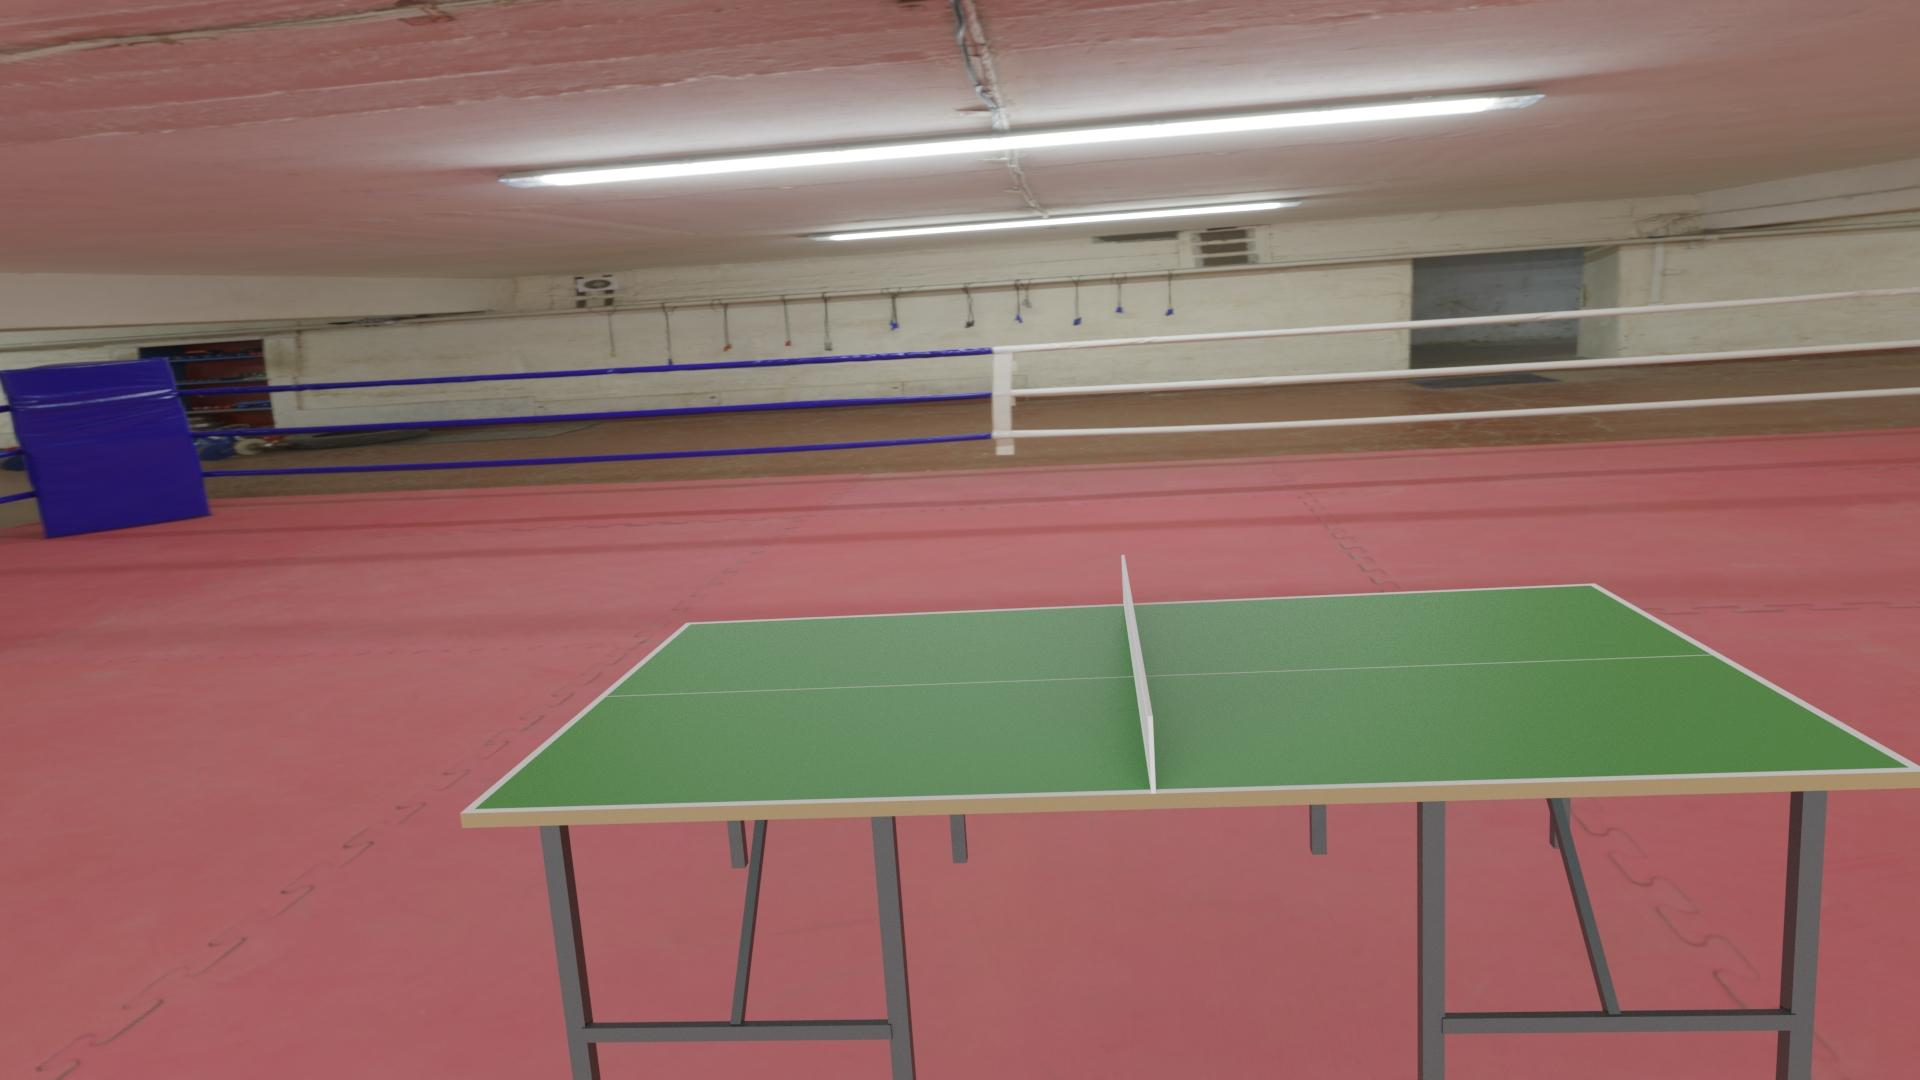table: (475, 585, 1909, 810)
